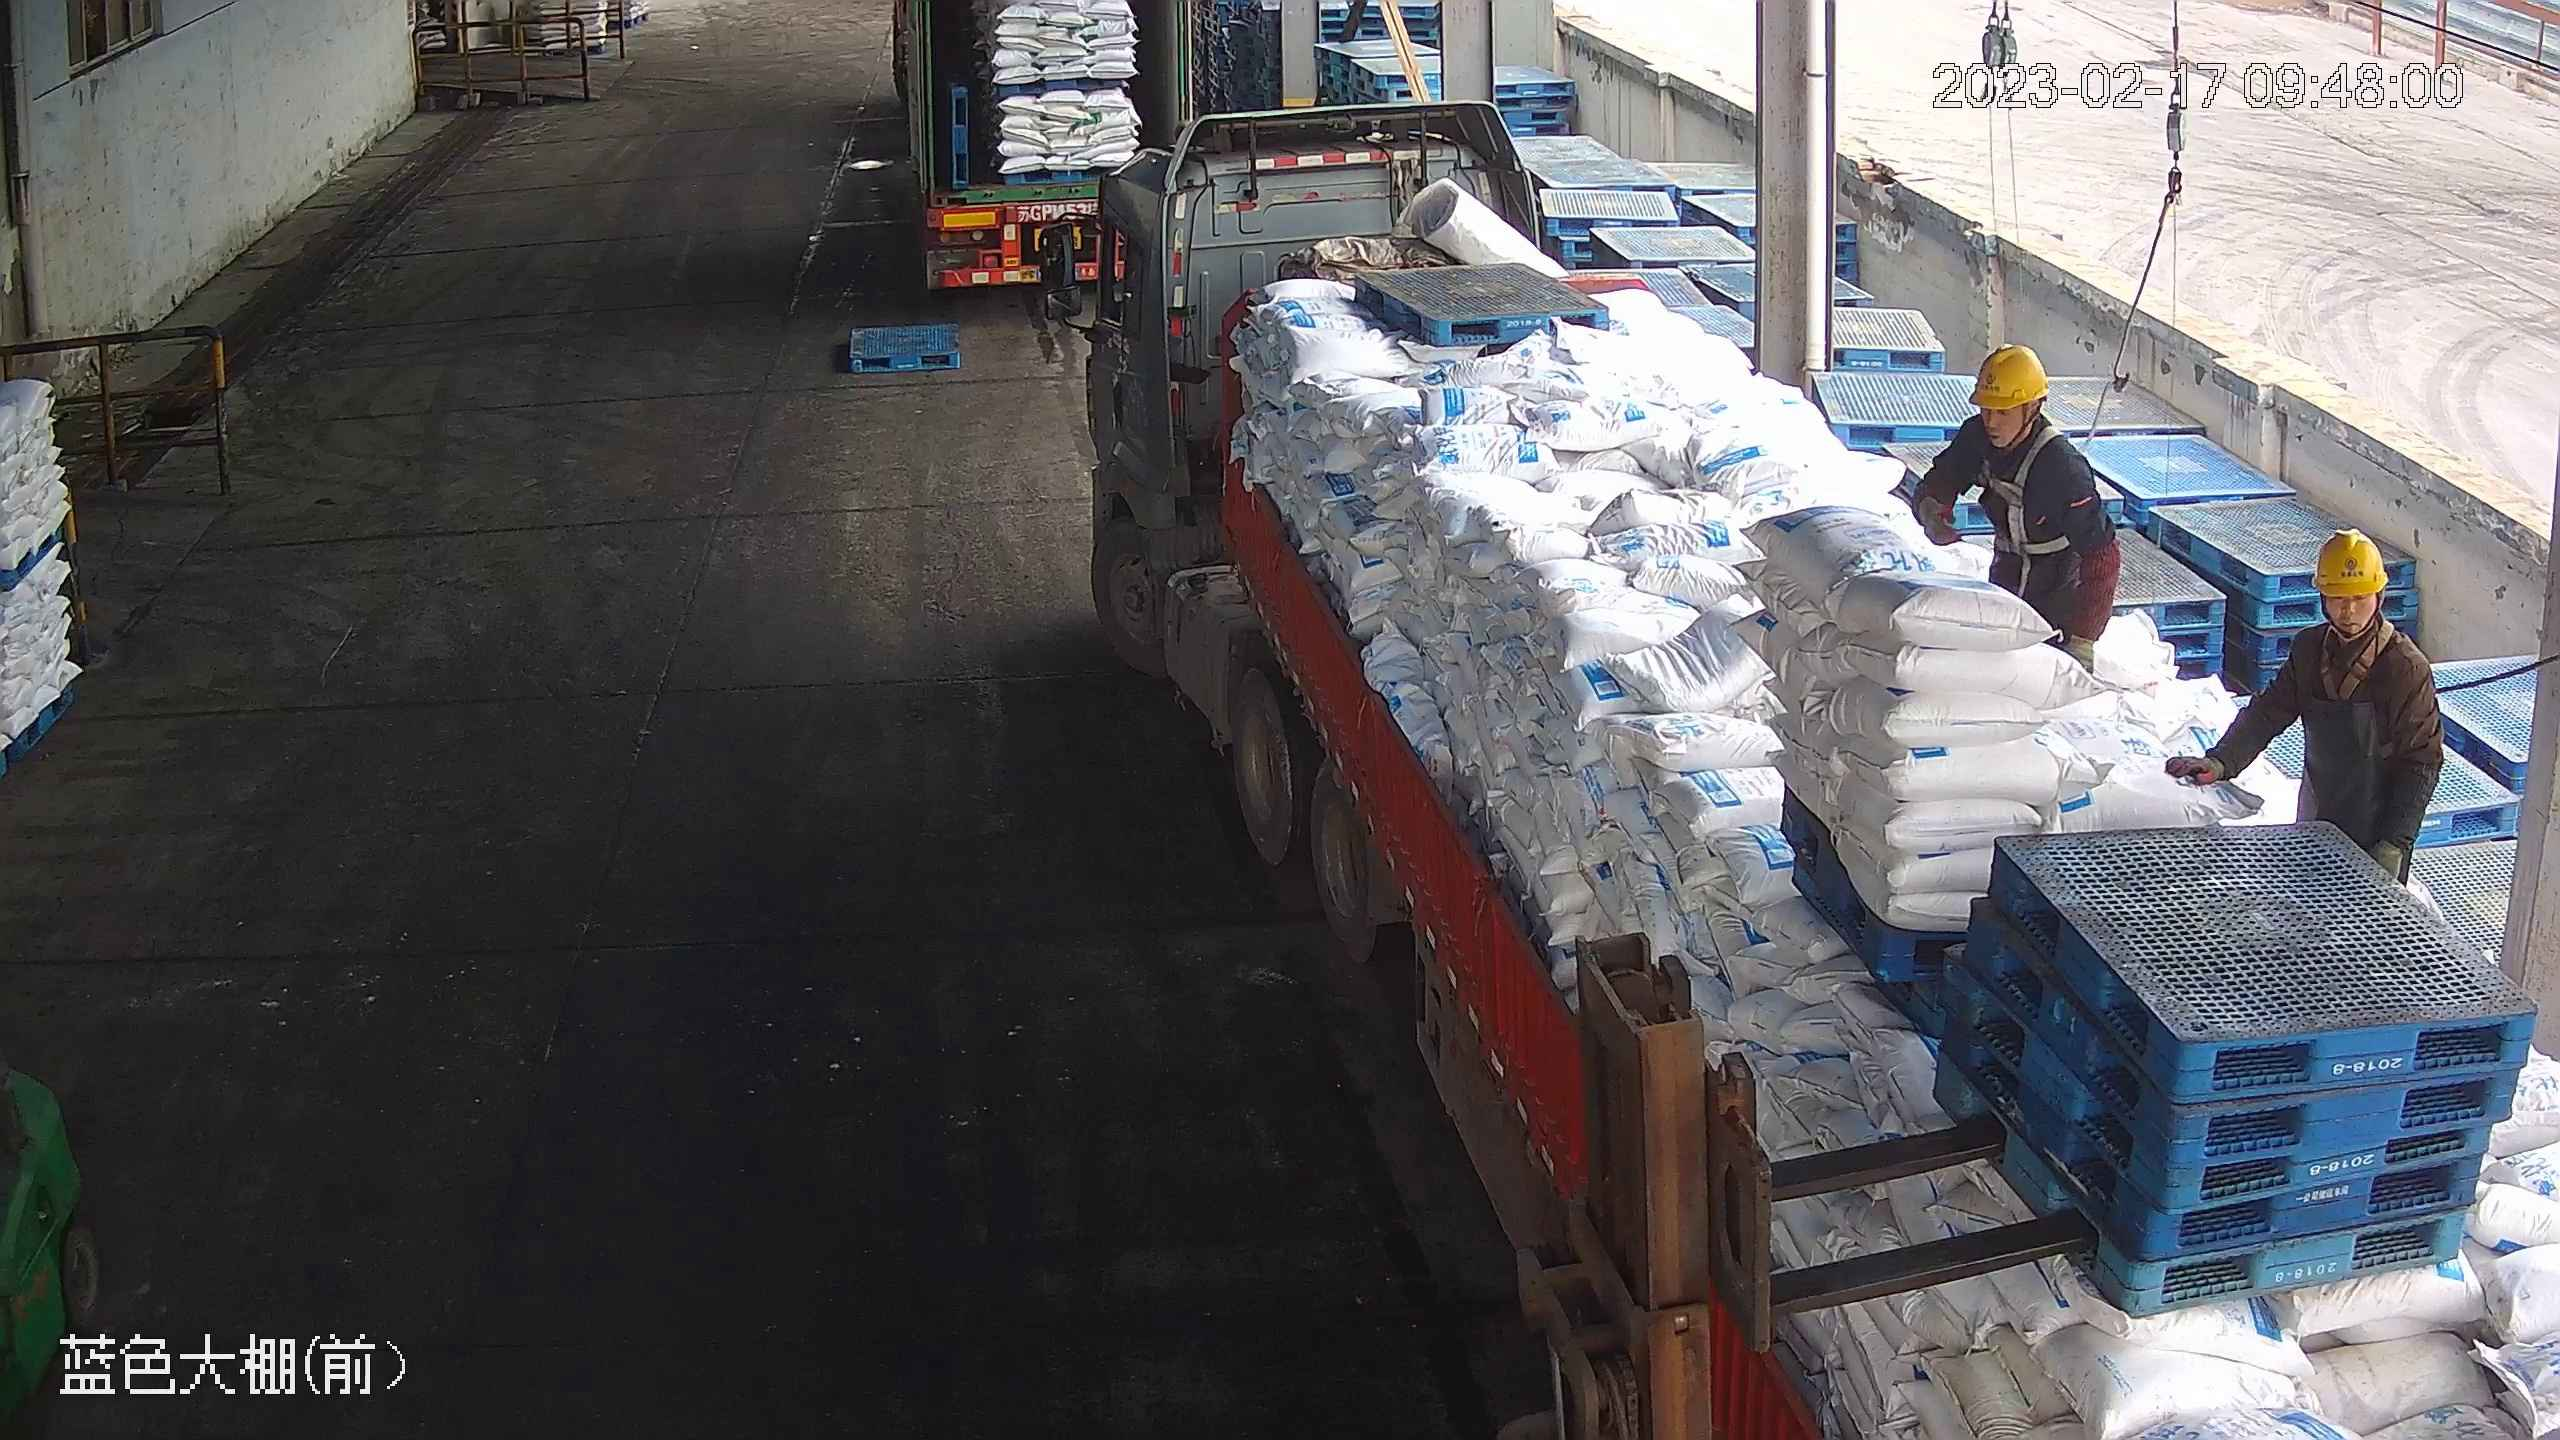belt: (1977, 427, 2074, 556), (2310, 616, 2403, 703)
head: (2272, 525, 2427, 700), (1948, 343, 2089, 493)
helmet: (2308, 523, 2389, 596), (1965, 344, 2052, 408)
people: (2161, 522, 2443, 895)
truck: (1099, 90, 2557, 1435), (898, 4, 1216, 286)
